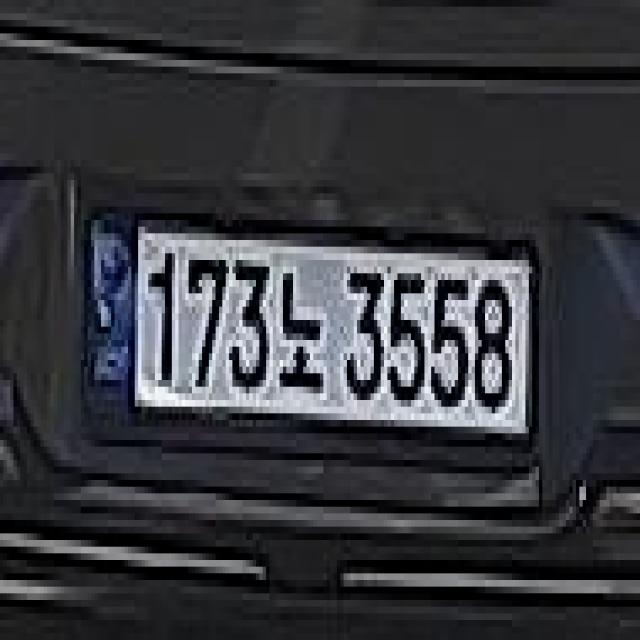illegal_plate: (80, 203, 542, 487)
